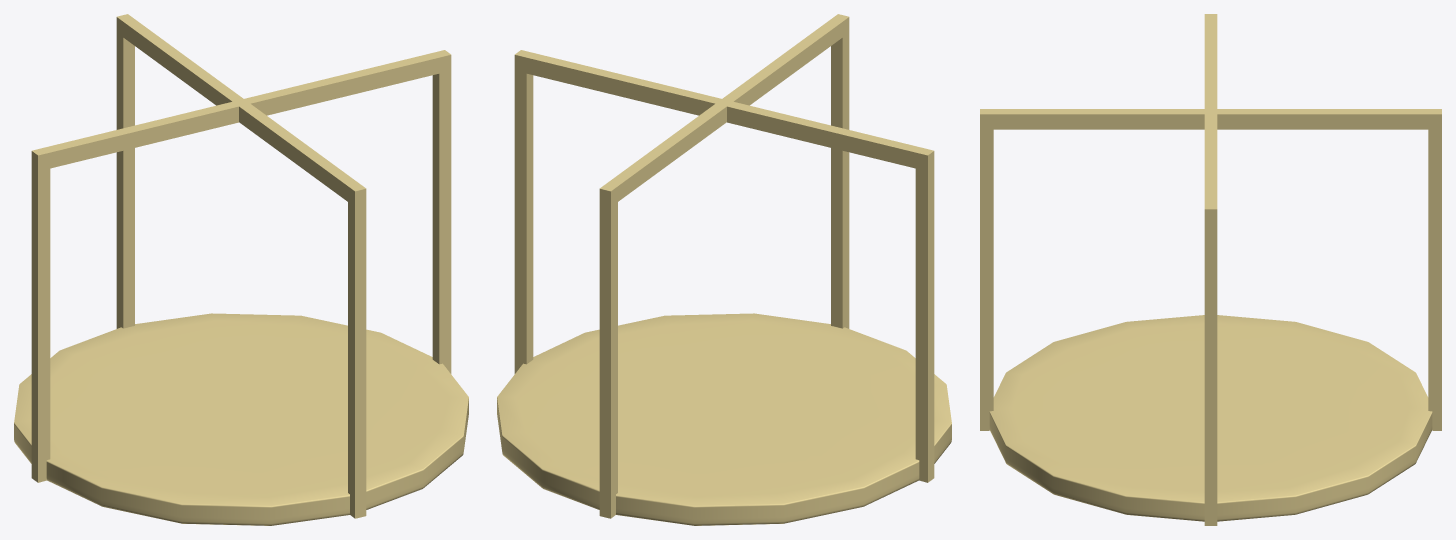
The model's file is Round_Yellow_coffee_table_cafe_Duane.fbx.
The picture shows the model from 3 angles, left to right: view 1: azimuth 30°, elevation 25°; view 2: azimuth 150°, elevation 25°; view 3: azimuth 270°, elevation 25°; orthographic projection. The views are drawn at different scales.
Visible parts, largest first — view 1: pCylinder1, pCube1, pCube2; view 2: pCylinder1, pCube1, pCube2; view 3: pCylinder1, pCube2, pCube1.
Boxes of the visible parts, bbox=[...] form: pCylinder1: bbox=[14, 313, 468, 525]; pCube1: bbox=[31, 50, 451, 482]; pCube2: bbox=[116, 14, 366, 518]; pCylinder1: bbox=[497, 313, 951, 525]; pCube1: bbox=[514, 50, 934, 482]; pCube2: bbox=[599, 14, 849, 518]; pCylinder1: bbox=[989, 315, 1432, 521]; pCube2: bbox=[980, 109, 1441, 430]; pCube1: bbox=[1204, 14, 1217, 525].
Bounding box in the file's own units: 0.5685 × 0.4312 × 0.5685.
